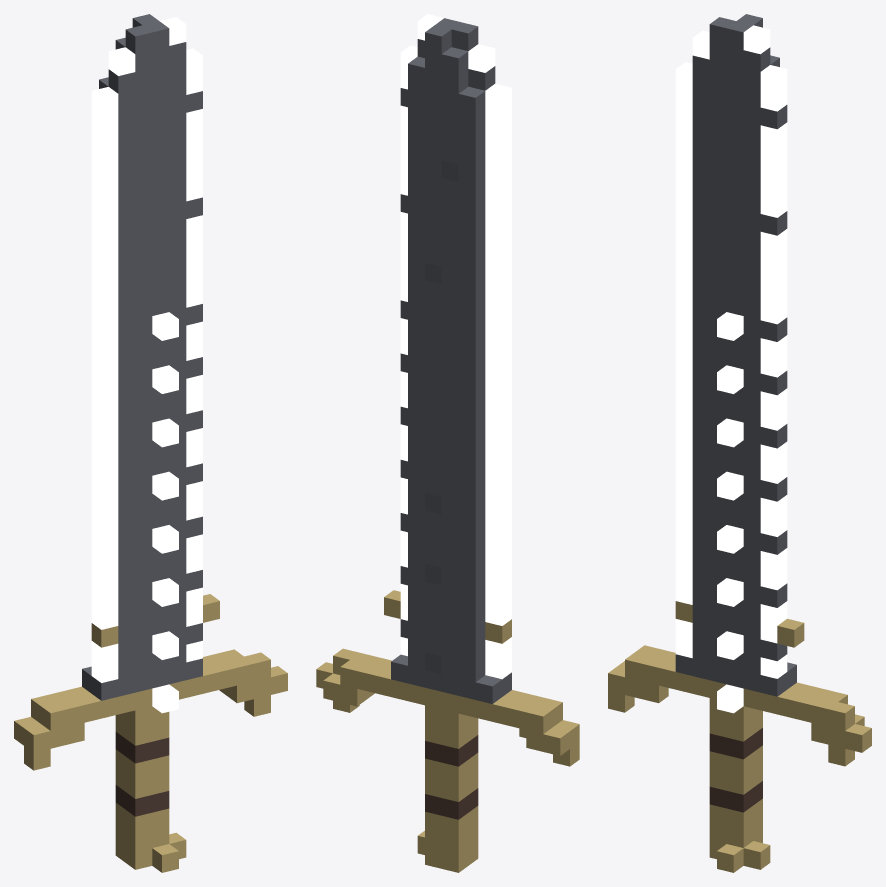
File: greatsword_legendary_lod1.glb
The picture shows the model from 3 angles, left to right: view 1: azimuth 30°, elevation 25°; view 2: azimuth 150°, elevation 25°; view 3: azimuth 330°, elevation 25°; orthographic projection.
Parts seen in each view (by area): view 1: greatsword_legendary_lod1; view 2: greatsword_legendary_lod1; view 3: greatsword_legendary_lod1.
Part boxes in pixels (x1,y1,x2,y2): greatsword_legendary_lod1: (14,14,287,872); greatsword_legendary_lod1: (316,14,579,872); greatsword_legendary_lod1: (608,14,871,872).
Size of the model in its own units: 0.45 by 1.41 by 0.09.
